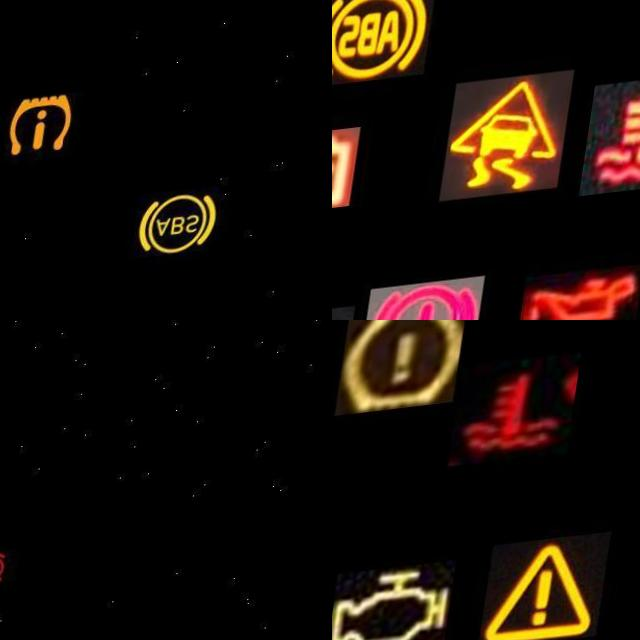Central Warning lamp: (496, 545, 627, 640)
Engine cooling system: (462, 365, 591, 476), (591, 85, 640, 207)
